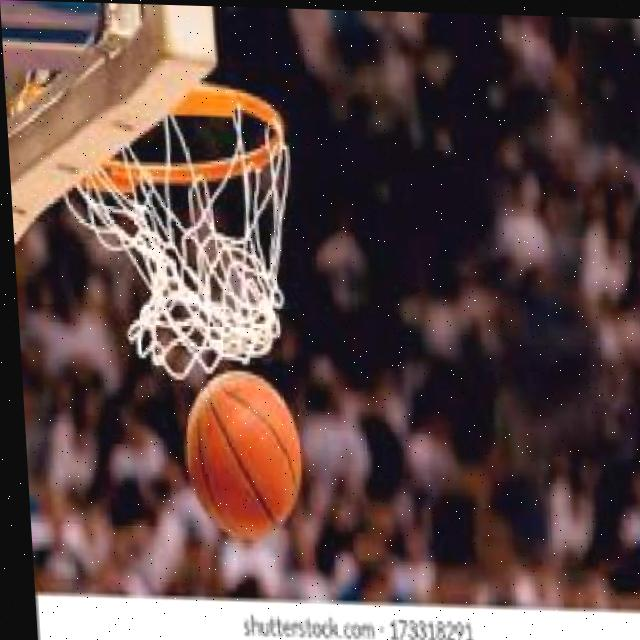basketball: (180, 369, 305, 542)
hoop: (63, 71, 304, 387)
